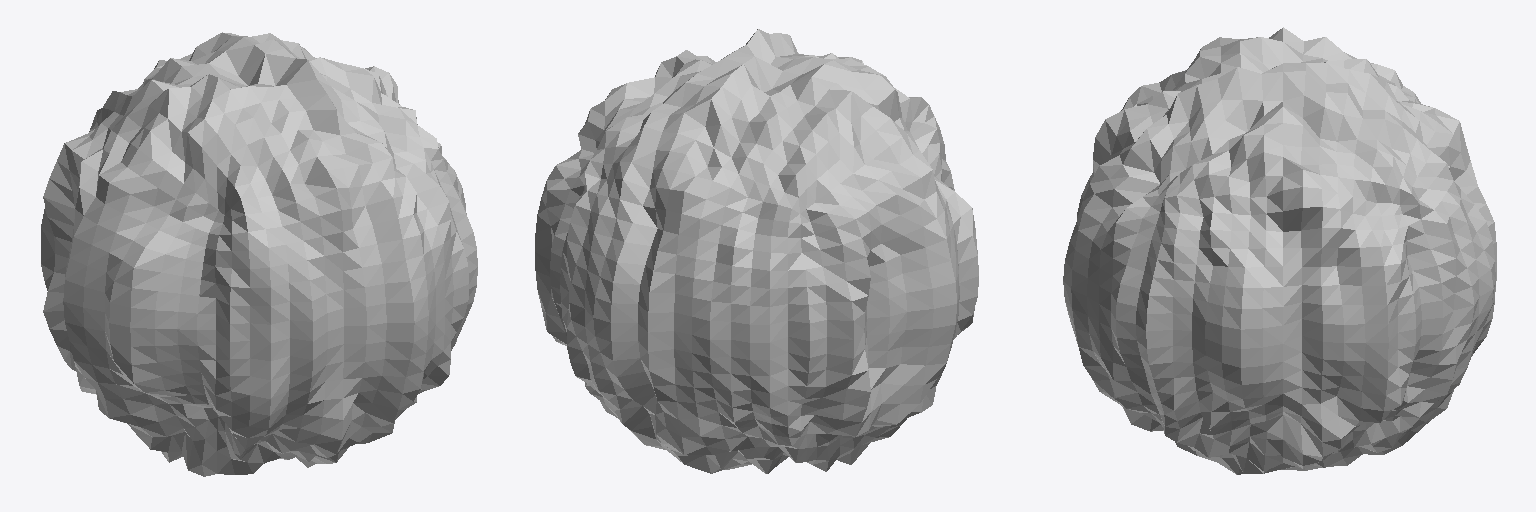
The model's file is asteroid89.obj.
3 renders of one model, left to right at view 1: azimuth 30°, elevation 25°; view 2: azimuth 150°, elevation 25°; view 3: azimuth 270°, elevation 25°, orthographic.
Parts seen in each view (by area): view 1: Cube_Cube.002; view 2: Cube_Cube.002; view 3: Cube_Cube.002.
Part boxes in pixels (bbox=[...]): Cube_Cube.002: bbox=[41, 32, 477, 476]; Cube_Cube.002: bbox=[535, 29, 978, 473]; Cube_Cube.002: bbox=[1063, 27, 1496, 474].
Size of the model in its own units: 1.8 by 1.84 by 1.77.